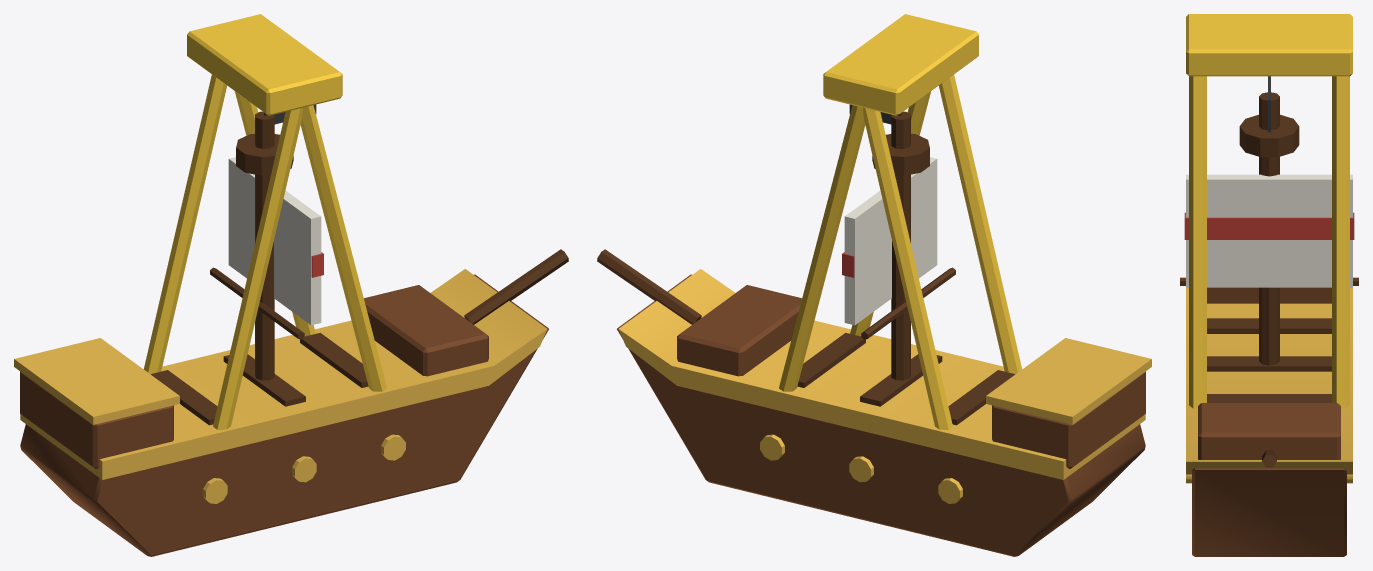
The model's file is pirate-ship.swing.glb.
The picture shows the model from 3 angles, left to right: view 1: azimuth 30°, elevation 25°; view 2: azimuth 150°, elevation 25°; view 3: azimuth 270°, elevation 25°; orthographic projection.
Parts seen in each view (by area): view 1: model; view 2: model; view 3: model.
Part boxes in pixels (left/top/right/bottom): model: left=14, top=14, right=568, bottom=556; model: left=597, top=14, right=1151, bottom=556; model: left=1180, top=14, right=1358, bottom=556.
Size of the model in its own units: 2.02 by 1.66 by 0.6.
Materials: 1 (1 with a texture image).
